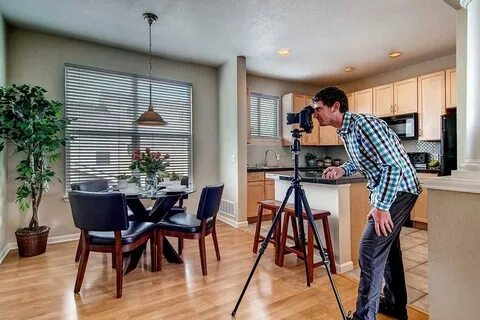awake: (312, 86, 424, 320)
